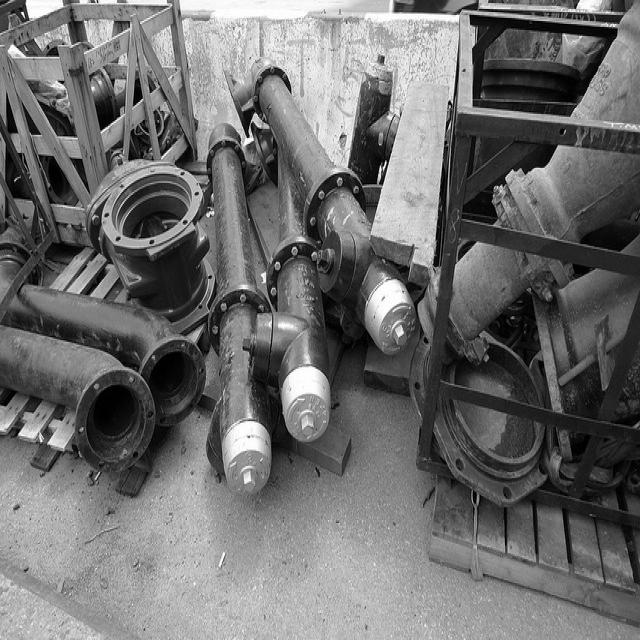fire_hydrant: (224, 51, 419, 360), (238, 142, 330, 446), (204, 120, 275, 495), (347, 50, 398, 182)
